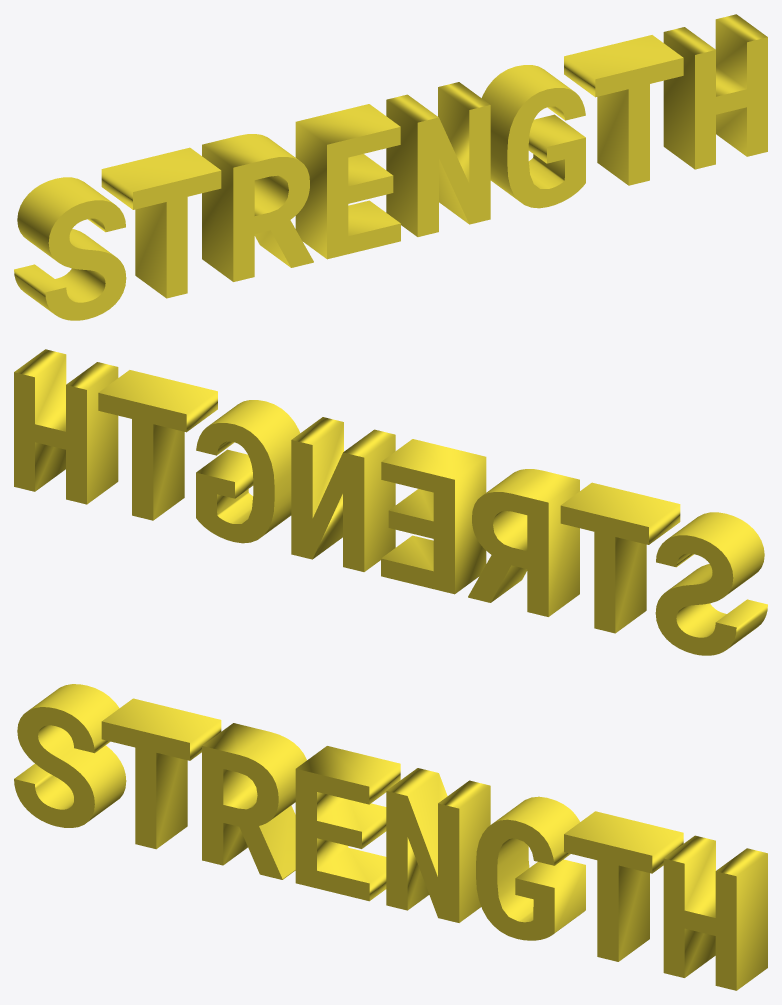
Rendered from Strength.fbx.
3 renders of one model, top to bottom at view 1: azimuth 30°, elevation 25°; view 2: azimuth 150°, elevation 25°; view 3: azimuth 330°, elevation 25°, orthographic.
Visible parts, largest first — view 1: $ColladaAutoName$_1; view 2: $ColladaAutoName$_1; view 3: $ColladaAutoName$_1.
Boxes of the visible parts, x1=… form: $ColladaAutoName$_1: x1=14, y1=14, x2=767, y2=320; $ColladaAutoName$_1: x1=14, y1=349, x2=767, y2=655; $ColladaAutoName$_1: x1=14, y1=684, x2=767, y2=990.
Size of the model in its own units: 651 by 102 by 49.
